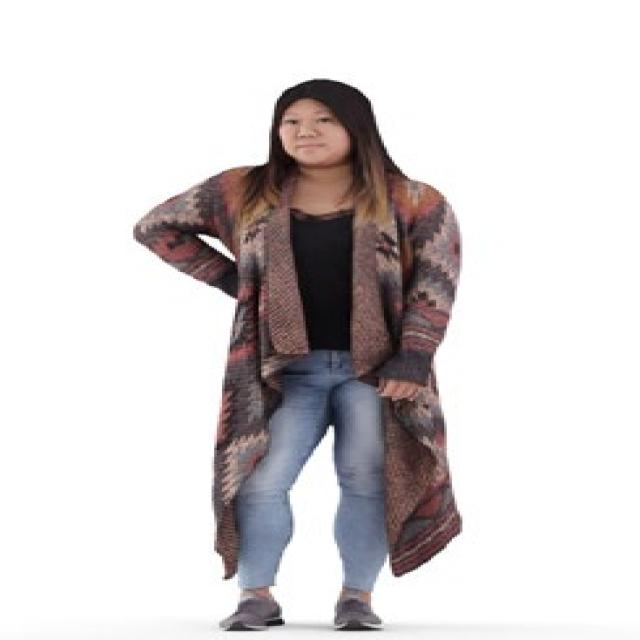standing: (125, 73, 473, 634)
